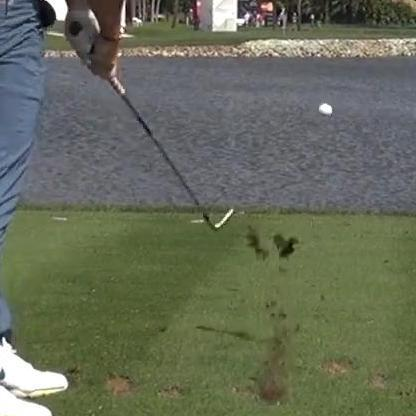golfball: (315, 99, 330, 115)
